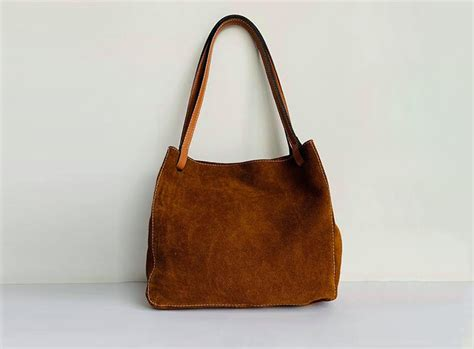gamuza: (146, 139, 343, 310)
